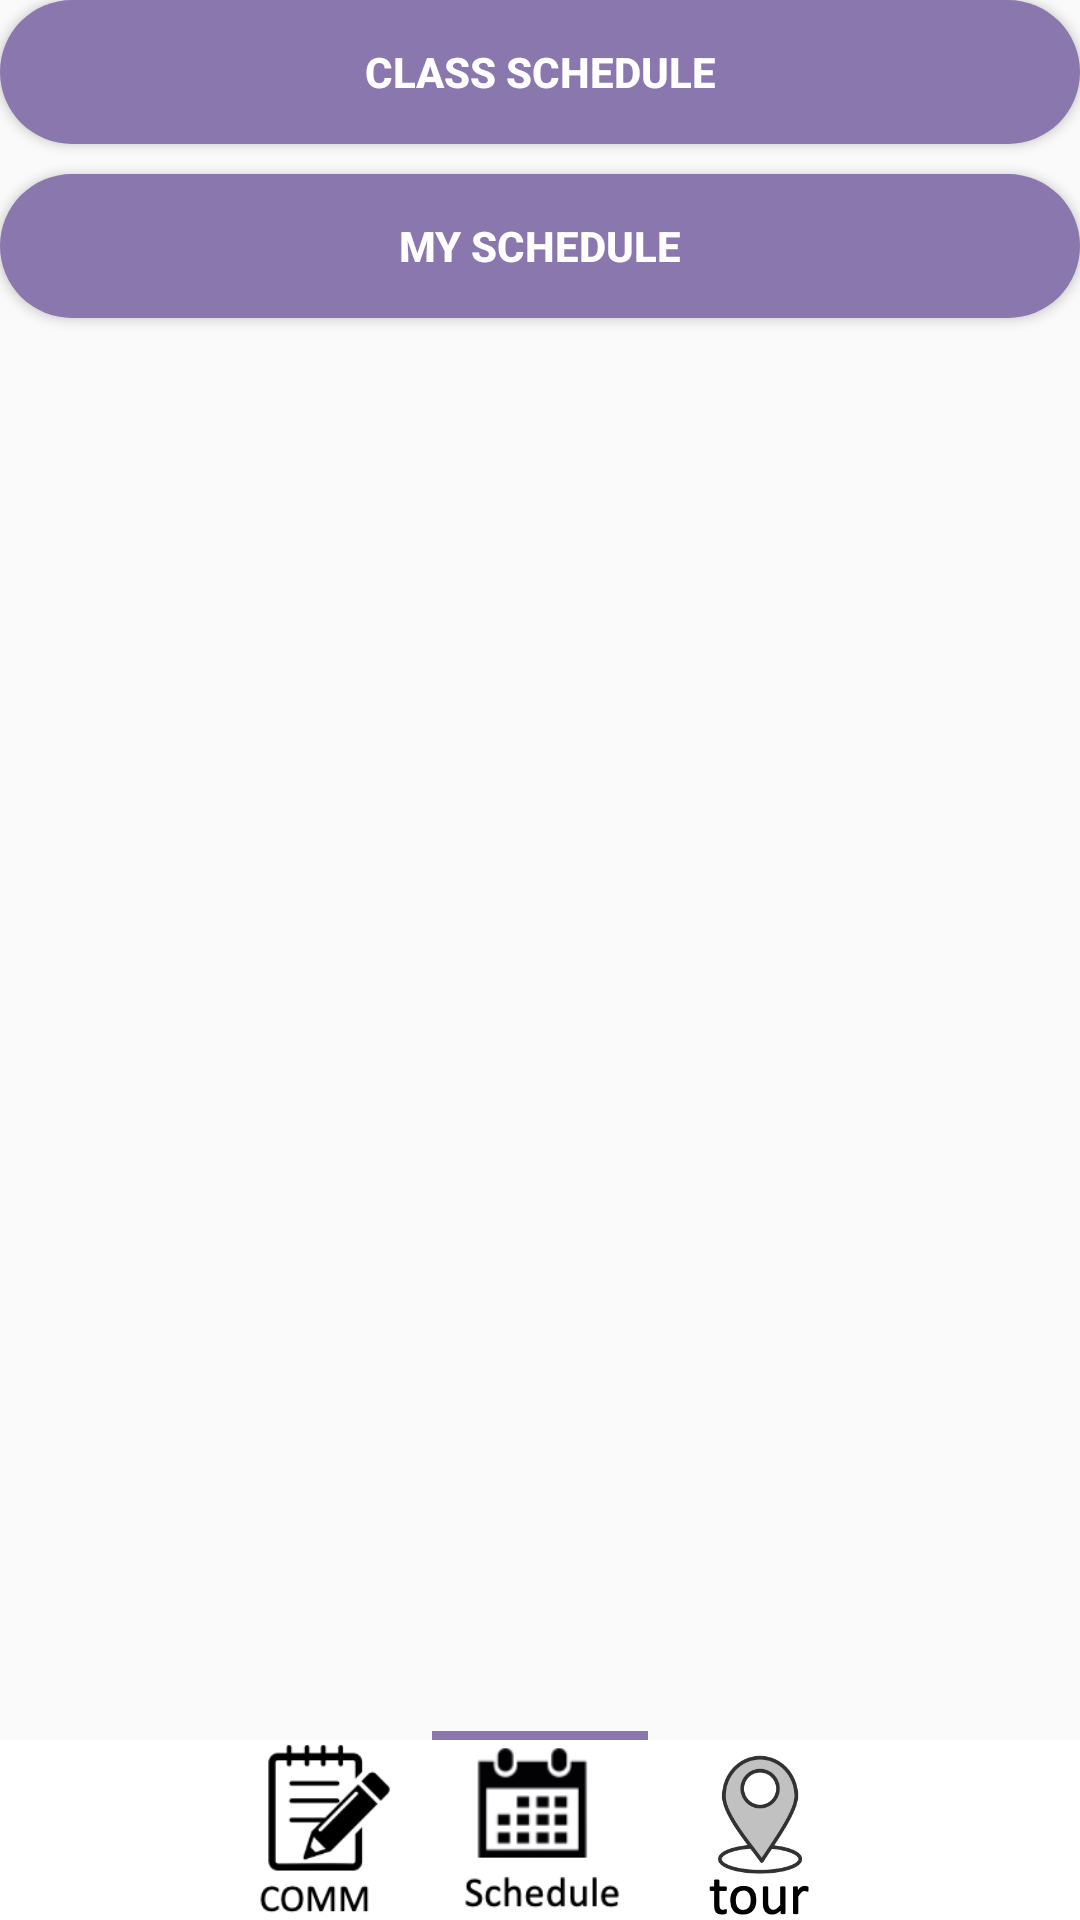

Icon bounding boxes for this 1080 x 1920 phone screenshot, format [x1,y1,x2,y2]:
map: [709,1755,809,1915]
